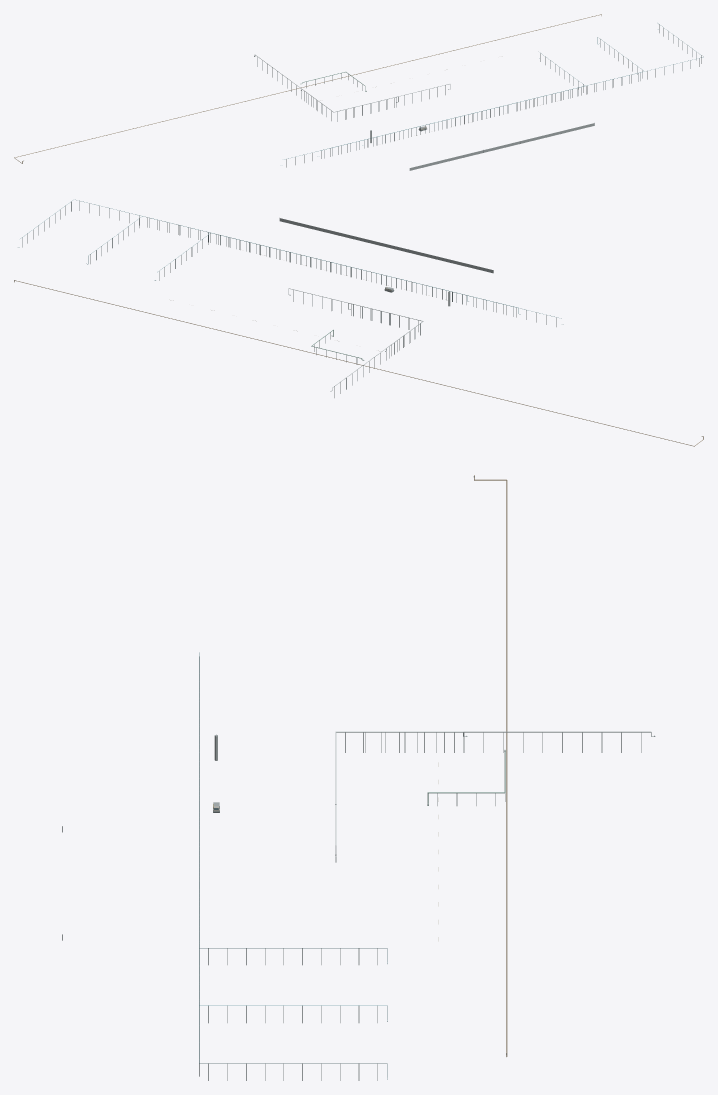
3 renders of one model, top to bottom at view 1: azimuth 30°, elevation 25°; view 2: azimuth 150°, elevation 25°; view 3: azimuth 270°, elevation 25°, orthographic. The views are drawn at different scales.
Parts seen in each view (by area): view 1: render-batch-2, render-batch-5, render-batch-4, render-batch-1; view 2: render-batch-2, render-batch-5, render-batch-4, render-batch-1; view 3: render-batch-2, render-batch-4, render-batch-1.
Part boxes in pixels (x1,y1,x2,y2): render-batch-2: (23,24,701,167); render-batch-5: (370,123,594,170); render-batch-4: (14,14,601,163); render-batch-1: (284,23,703,159); render-batch-2: (14,201,702,436); render-batch-5: (280,218,493,306); render-batch-4: (14,280,703,446); render-batch-1: (19,199,561,318); render-batch-2: (62,476,654,1080); render-batch-4: (474,475,507,1056); render-batch-1: (199,652,387,1079).
Size of the model in its own units: 416 by 8.32 by 174.
